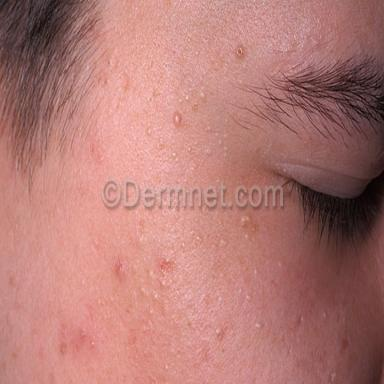acne: (160, 258, 173, 275), (115, 261, 125, 275), (236, 46, 244, 57), (216, 329, 223, 340), (79, 328, 85, 338)
